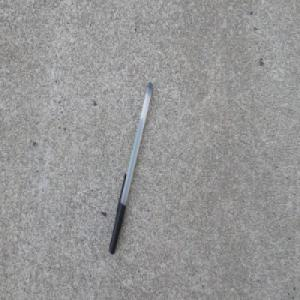Pen: (107, 79, 154, 257)
